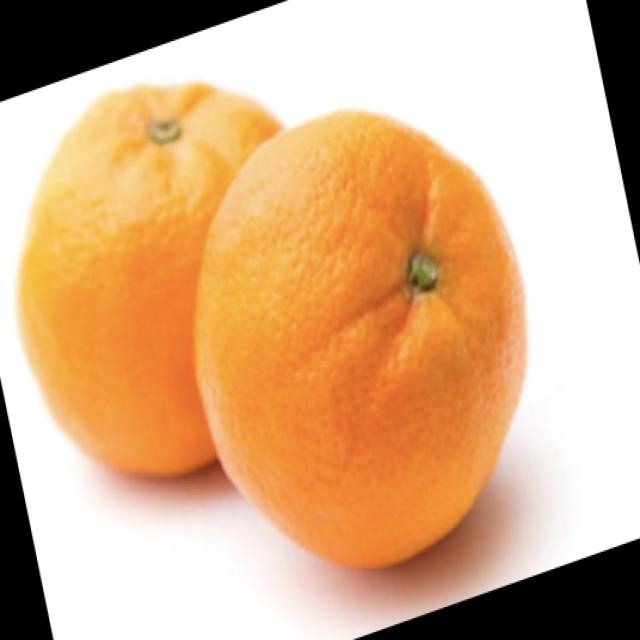matang: (188, 104, 526, 570), (18, 77, 285, 484)
